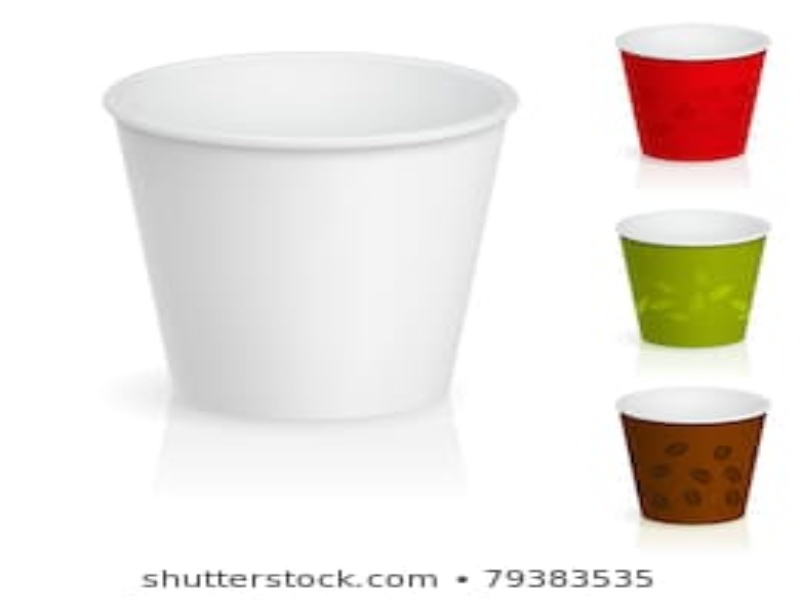plastic-cup: (101, 50, 510, 418), (615, 22, 771, 165), (615, 383, 771, 526), (614, 205, 770, 348)
